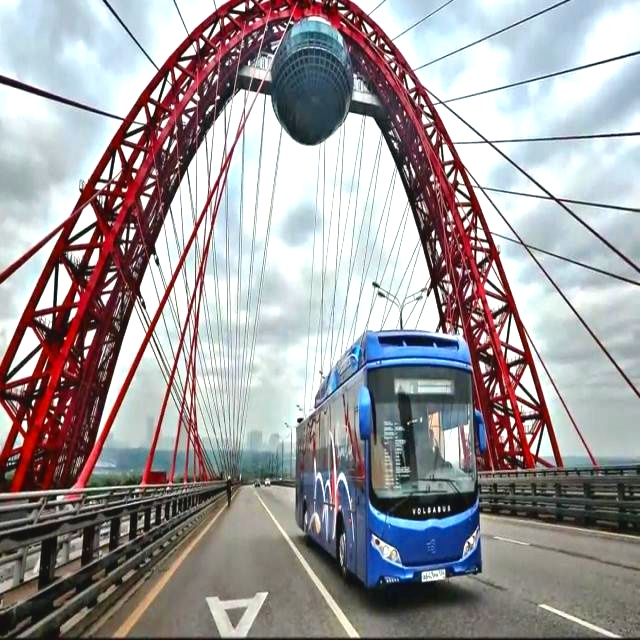bus: (276, 319, 512, 624)
